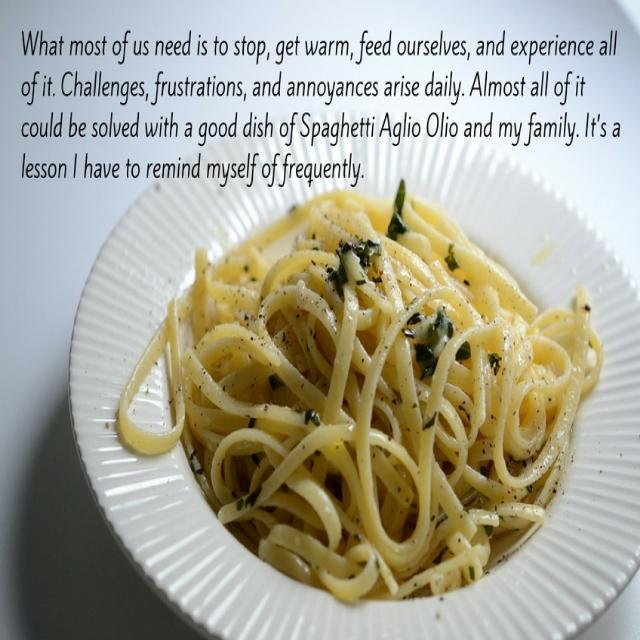Oil pasta: (149, 200, 567, 640)
